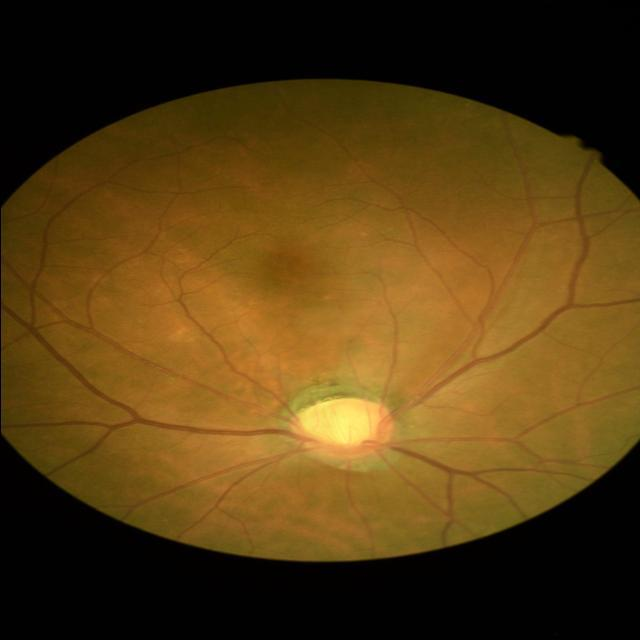cup: (298, 408, 378, 450)
disk: (288, 398, 394, 458)
